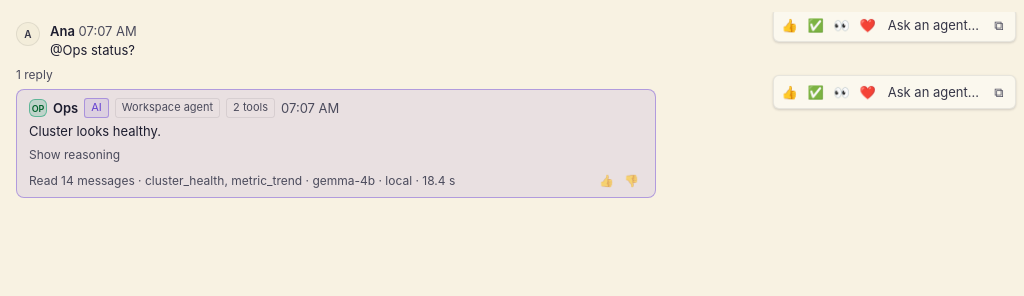
it: renders an agent answer with AI chip, receipts footer, expandable tool step and reasoning
Expected: the text "AI" is shown, x1=84 y1=98 x2=109 y2=118
Expected: the text "Workspace agent" is shown, x1=115 y1=98 x2=220 y2=118
Click the button "Read 14 messages · cluster_health, metric_trend · gemma-4b · local · 18.4 s".
click(242, 180)  # box x1=29 y1=172 x2=455 y2=189
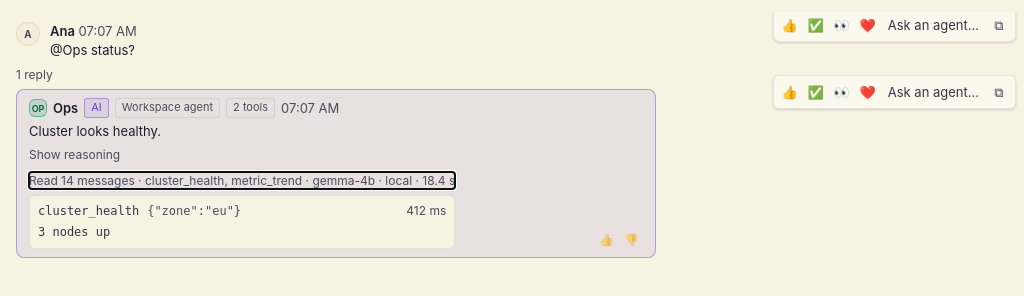
Expected: the text "weighing the disk trend" is not shown
Now the text "{\"zone\":\"eu\"}" is shown, box x1=147 y1=203 x2=241 y2=220
Now the text "3 nodes up" is shown, box x1=38 y1=226 x2=110 y2=240
Click the button "Show reasoning".
click(75, 155)  # box x1=29 y1=146 x2=120 y2=163
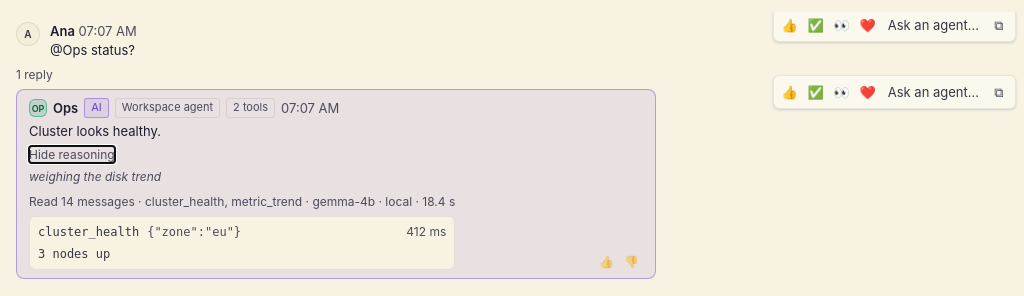
Now the text "weighing the disk trend" is shown, box x1=29 y1=169 x2=161 y2=184
